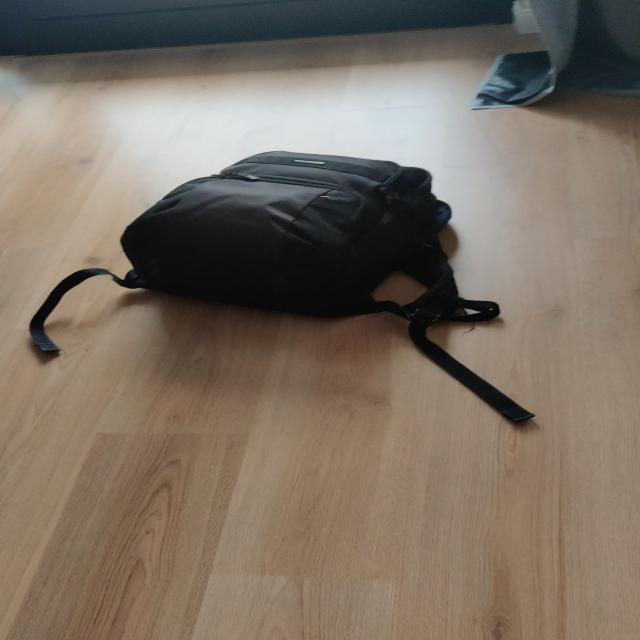backpack: (109, 144, 468, 323)
